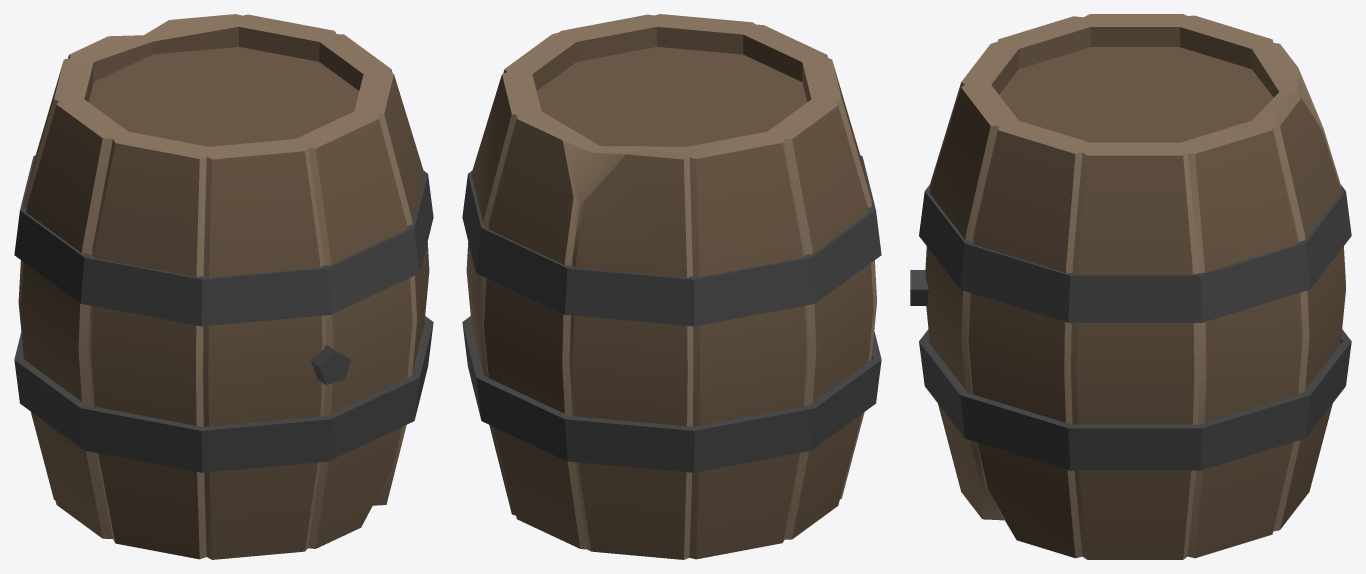
File: 08_LP_Barrel.fbx
3 renders of one model, left to right at view 1: azimuth 30°, elevation 25°; view 2: azimuth 150°, elevation 25°; view 3: azimuth 270°, elevation 25°, orthographic.
Visible parts, largest first — view 1: Barrel; view 2: Barrel; view 3: Barrel.
Boxes of the visible parts, x1=… form: Barrel: x1=14, y1=14, x2=433, y2=559; Barrel: x1=462, y1=14, x2=881, y2=559; Barrel: x1=910, y1=14, x2=1351, y2=559.
Size of the model in its own units: 64.58 by 70.27 by 69.27.
